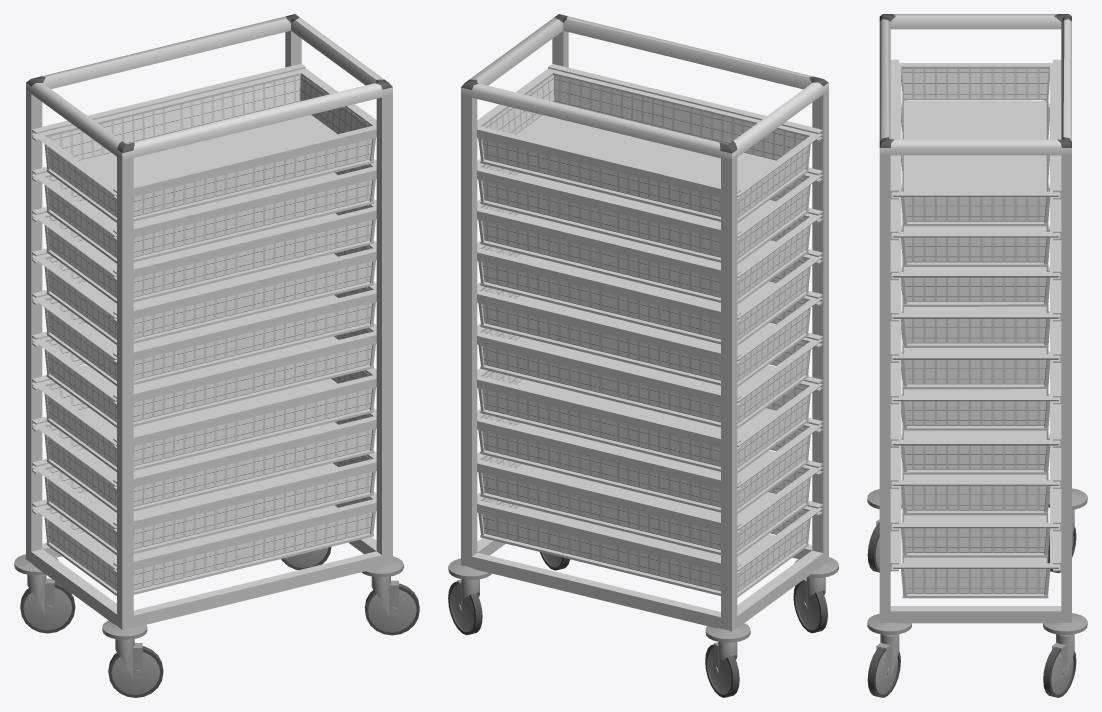
File: Trolley.fbx
The picture shows the model from 3 angles, left to right: view 1: azimuth 30°, elevation 25°; view 2: azimuth 150°, elevation 25°; view 3: azimuth 270°, elevation 25°; orthographic projection.
Visible parts, largest first — view 1: Trolley; view 2: Trolley; view 3: Trolley.
Boxes of the visible parts, bbox=[...] form: Trolley: bbox=[14, 14, 419, 697]; Trolley: bbox=[448, 14, 838, 697]; Trolley: bbox=[867, 14, 1087, 697].
Bounding box in the file's own units: 82.41 × 142 × 51.47.
